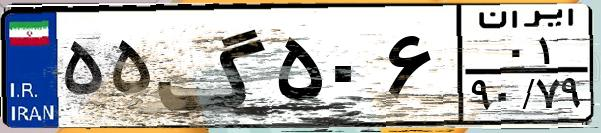0: (330, 28, 385, 110), (508, 27, 537, 80), (495, 70, 520, 125)
1: (537, 27, 568, 80)
5: (270, 28, 330, 110), (57, 26, 110, 100), (110, 28, 156, 98)
6: (385, 28, 445, 110)
7: (535, 70, 560, 125)
9: (560, 70, 590, 125), (470, 70, 495, 125)
گ: (156, 12, 270, 120)
